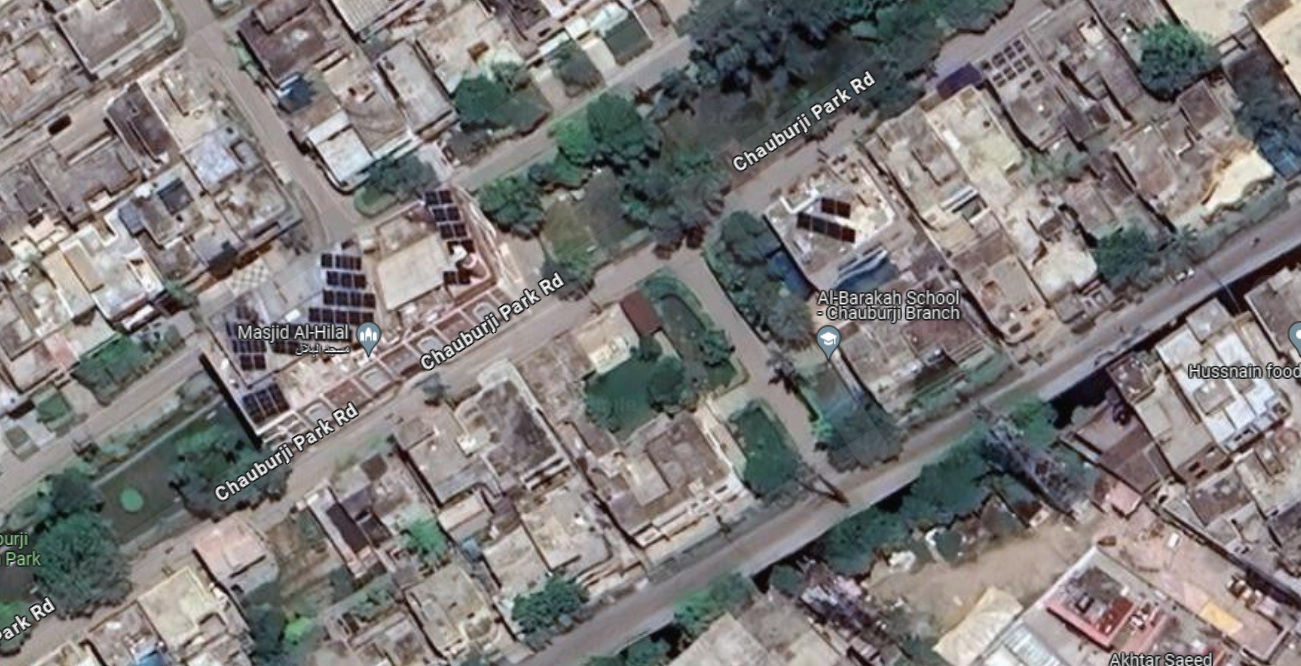solar-panel: (215, 257, 397, 419), (430, 180, 489, 289), (780, 192, 872, 254), (983, 31, 1054, 99)
